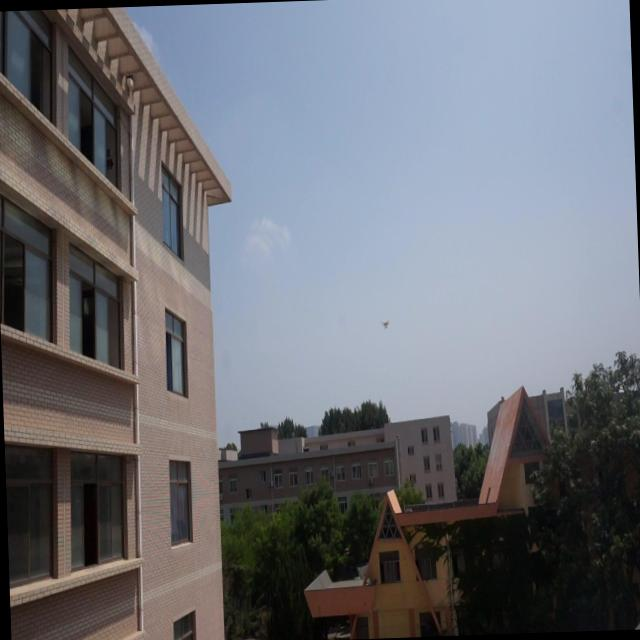drone: (378, 315, 389, 329)
